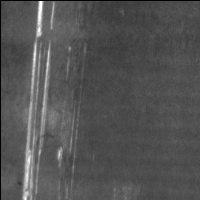scratches: (20, 1, 56, 200), (55, 124, 79, 173)
